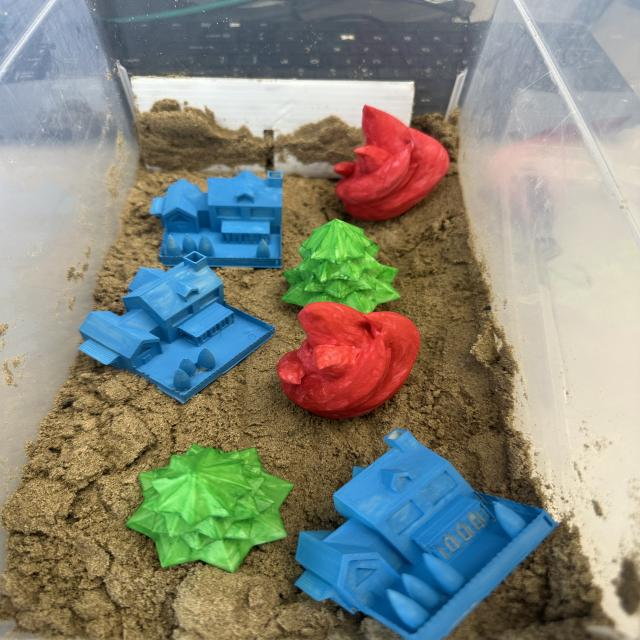fire: (274, 301, 422, 422), (335, 105, 450, 220)
house: (294, 428, 559, 640), (77, 250, 275, 404), (150, 170, 288, 271)
tree: (123, 443, 296, 574), (278, 216, 403, 317)
